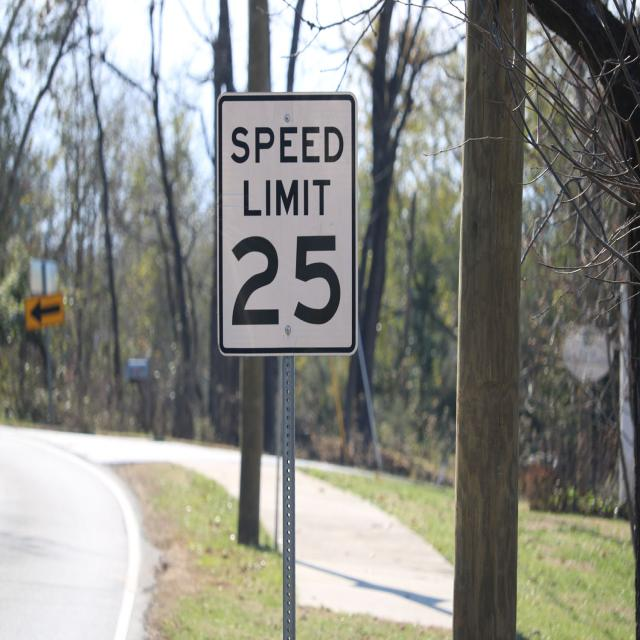speedLimit25: (228, 111, 348, 333)
